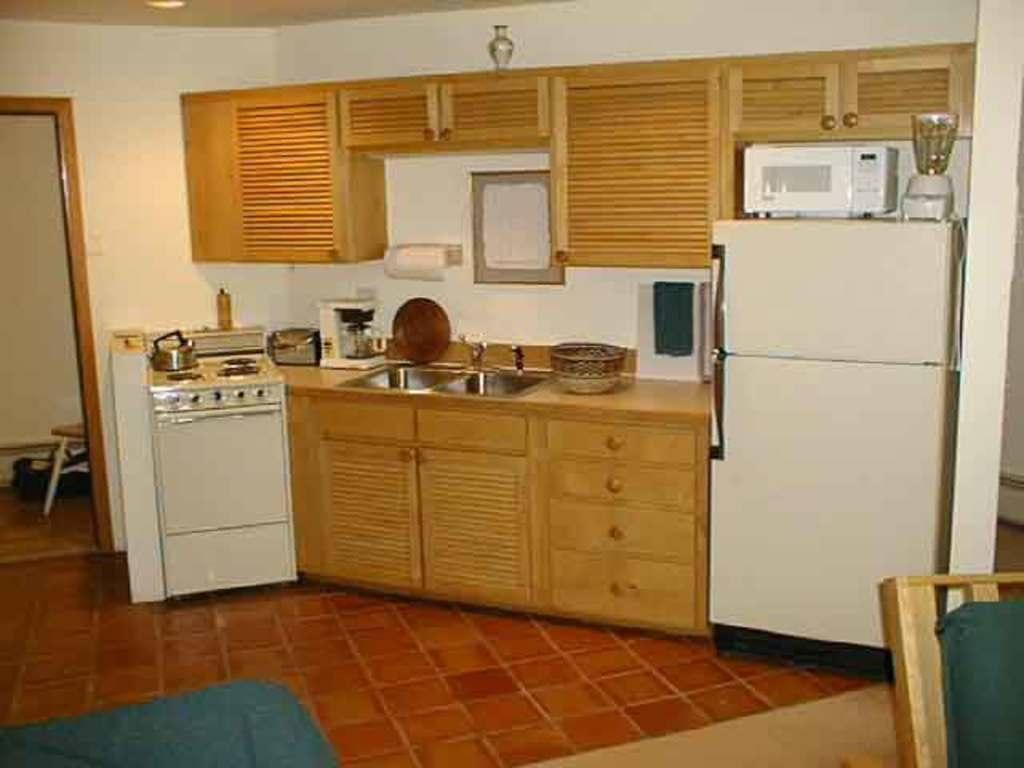cabinet_door: (551, 82, 716, 255), (237, 104, 344, 262), (418, 450, 526, 595), (322, 440, 420, 596), (556, 552, 694, 620), (732, 71, 838, 140), (849, 67, 952, 136), (438, 81, 546, 141), (550, 465, 694, 507), (552, 418, 705, 457), (339, 88, 440, 140), (564, 514, 700, 552)
handle: (712, 351, 731, 464), (708, 246, 728, 350), (604, 523, 630, 545), (819, 111, 840, 138), (610, 574, 630, 602), (604, 470, 626, 495), (605, 431, 625, 458), (845, 106, 860, 134), (318, 246, 340, 264), (420, 125, 438, 145), (397, 446, 413, 468), (438, 125, 454, 147), (416, 450, 430, 472), (558, 246, 572, 266)
